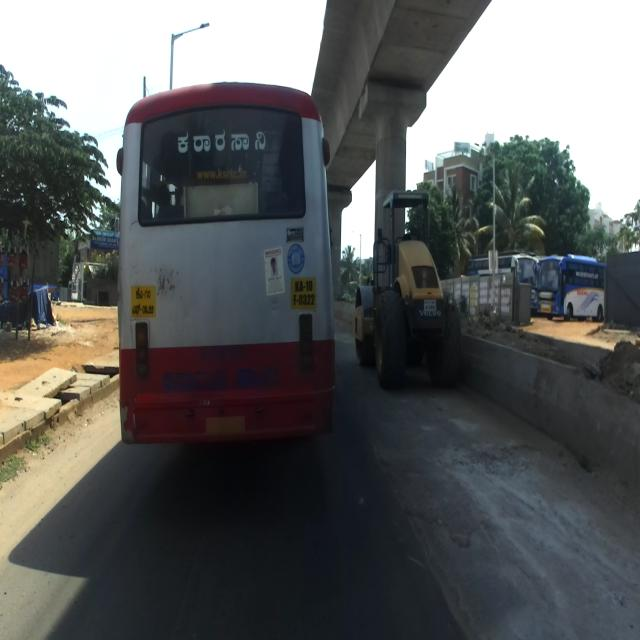bus ahead at: (118, 80, 339, 454)
truck ahead at: (354, 188, 456, 397)
